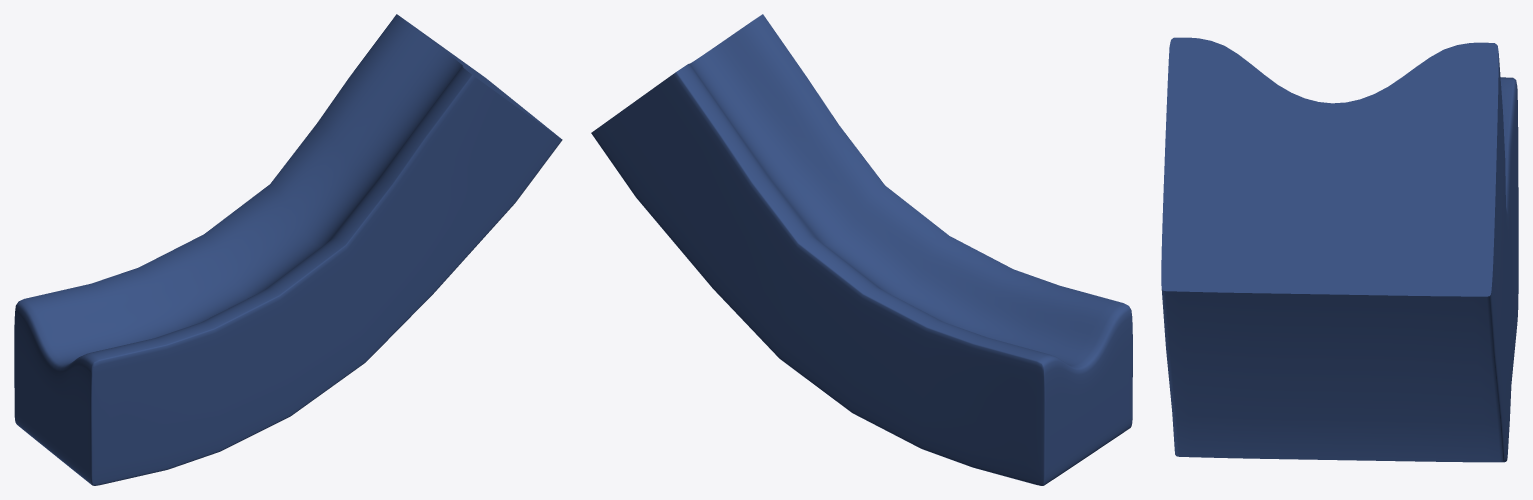
File: ramp bottom.fbx
3 views of the same model, side by side, from view 1: azimuth 30°, elevation 25°; view 2: azimuth 150°, elevation 25°; view 3: azimuth 270°, elevation 25° (orthographic). The views are drawn at different scales.
Parts seen in each view (by area): view 1: ramp_track_bottom:pCube1; view 2: ramp_track_bottom:pCube1; view 3: ramp_track_bottom:pCube1.
Boxes of the visible parts, x1,y1,x2,y2 form: ramp_track_bottom:pCube1: (14,14,562,485); ramp_track_bottom:pCube1: (591,14,1132,485); ramp_track_bottom:pCube1: (1161,37,1518,462).
Bounding box in the file's own units: 14.56 × 9.58 × 4.82.
